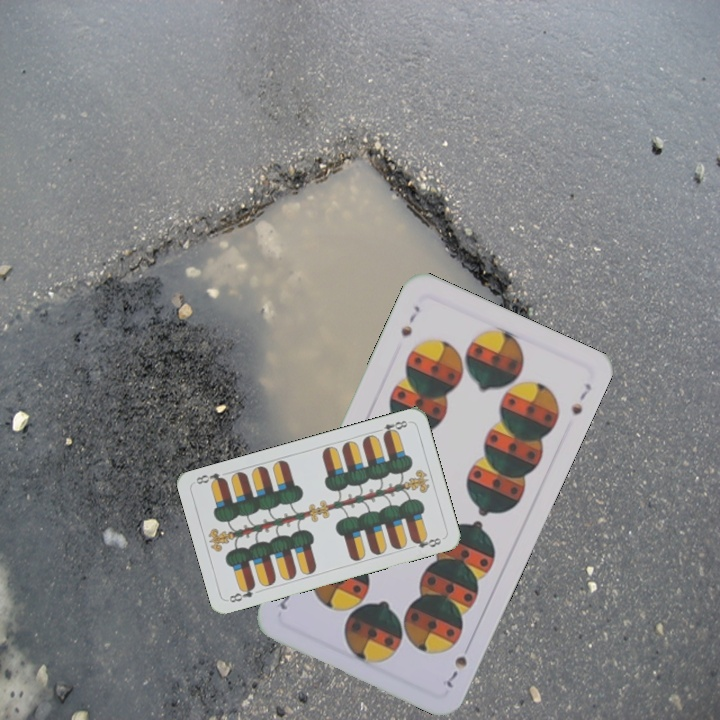E8: (372, 416, 410, 439), (225, 581, 258, 605)
S7: (438, 651, 470, 691), (396, 301, 423, 339)
